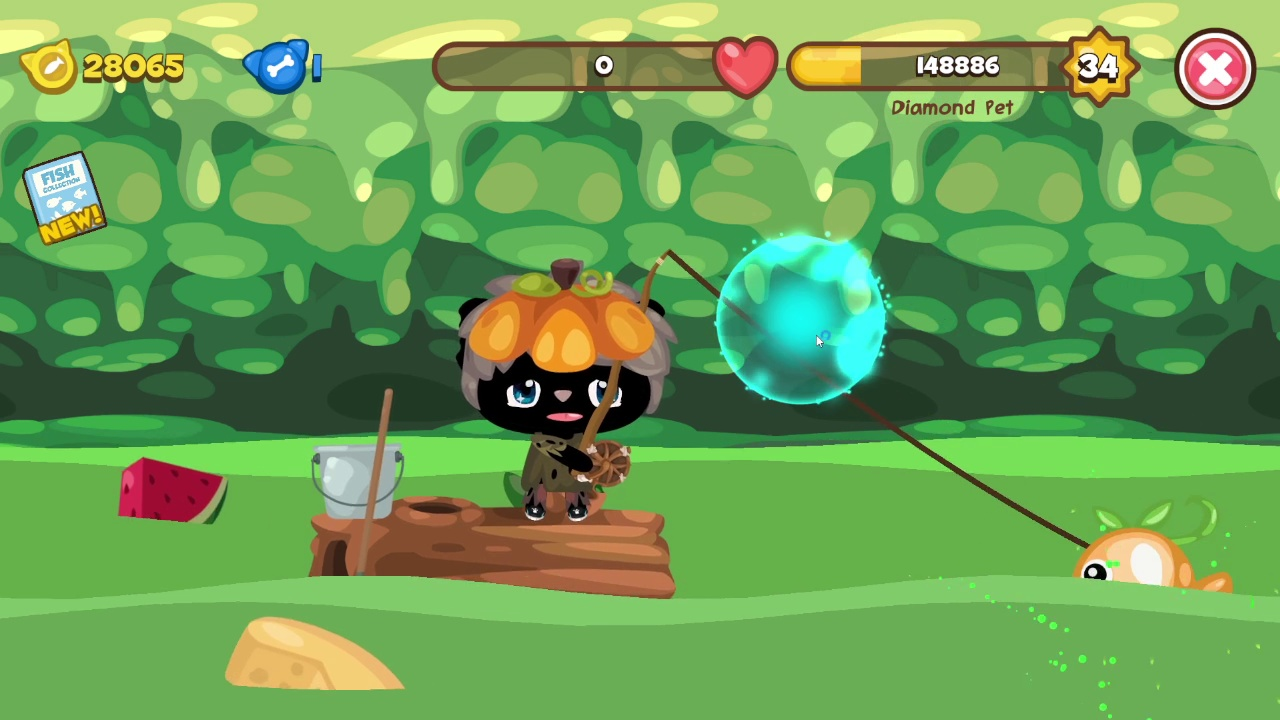point: (714, 232, 890, 406)
